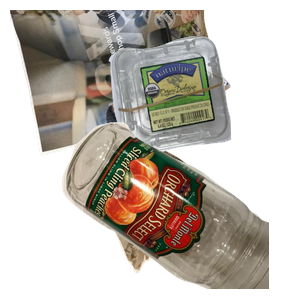glass: (60, 120, 300, 300)
paper: (10, 10, 233, 158)
plastic: (106, 34, 300, 183)
trash: (79, 123, 281, 300)
